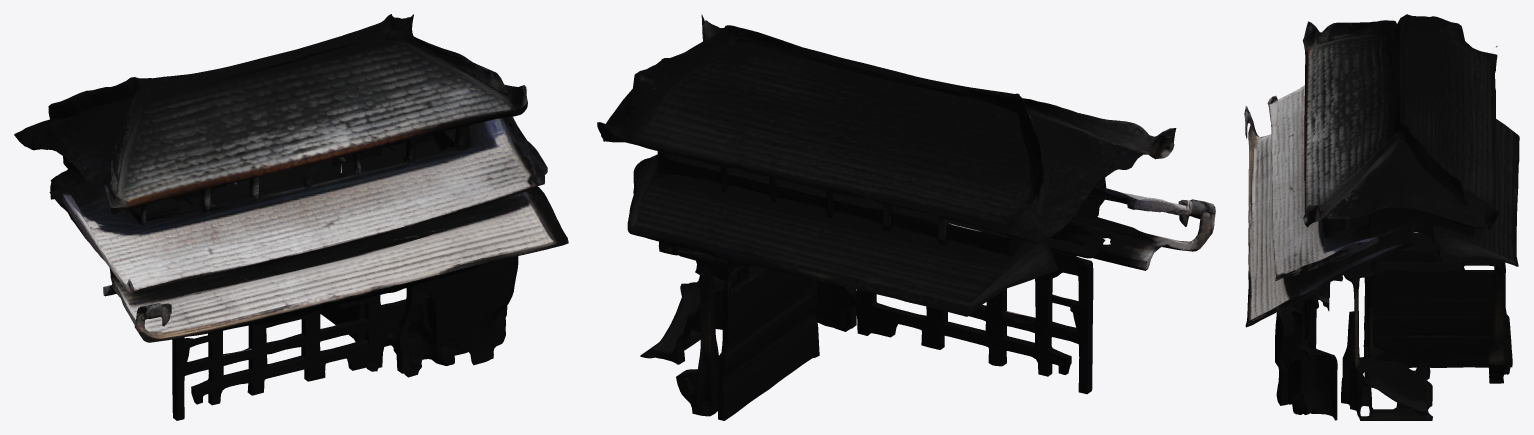
The model's file is nusa-tenggara-barat.glb.
The picture shows the model from 3 angles, left to right: view 1: azimuth 30°, elevation 25°; view 2: azimuth 150°, elevation 25°; view 3: azimuth 270°, elevation 25°; orthographic projection. The views are drawn at different scales.
Visible parts, largest first — view 1: world; view 2: world; view 3: world.
Part boxes in pixels (x1,y1,x2,y2): world: (14, 14, 568, 420); world: (597, 14, 1215, 420); world: (1244, 14, 1519, 420).
Bounding box in the file's own units: 0.6976 × 0.4704 × 0.4325.
Materials: 1 (1 with a texture image).
